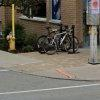bicycles: (38, 24, 74, 55), (74, 37, 79, 52)
